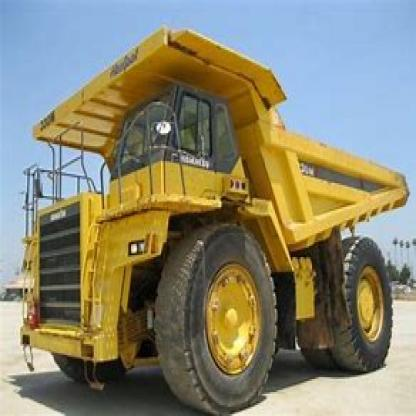dump_truck: (14, 20, 399, 410)
